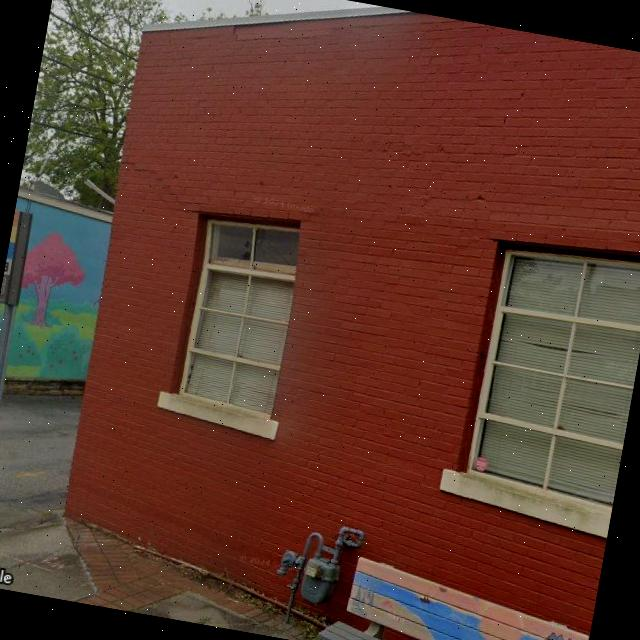seating: (315, 549, 596, 640)
